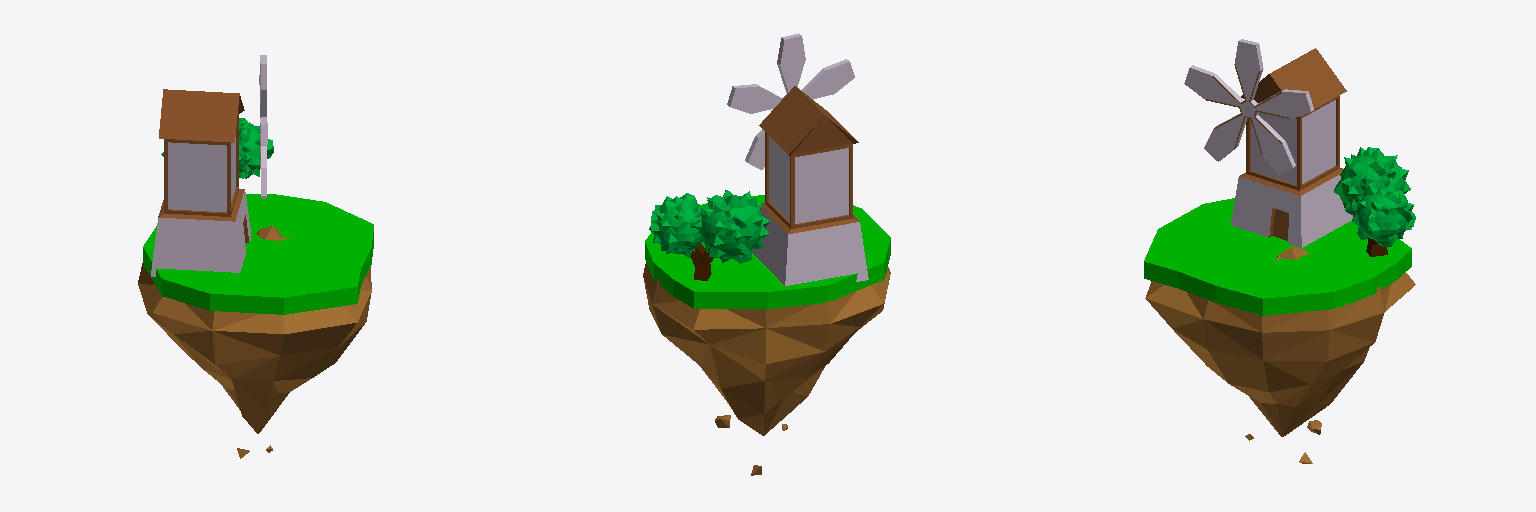
Rendered from Skyisland.obj.
3 renders of one model, left to right at view 1: azimuth 30°, elevation 25°; view 2: azimuth 150°, elevation 25°; view 3: azimuth 270°, elevation 25°, orthographic.
Visible parts, largest first — view 1: Green_platform, Island, Mill, Tree, propeller; view 2: Island, Mill, Green_platform, Tree, propeller; view 3: Island, Green_platform, Mill, propeller, Tree.
Part boxes in pixels (left/top/right/bottom): Green_platform: left=143, top=194, right=373, bottom=314; Island: left=138, top=226, right=371, bottom=458; Mill: left=151, top=89, right=251, bottom=276; Tree: left=161, top=118, right=273, bottom=178; propeller: left=259, top=55, right=267, bottom=198; Island: left=643, top=263, right=890, bottom=475; Mill: left=751, top=86, right=868, bottom=285; Green_platform: left=645, top=195, right=890, bottom=308; Tree: left=649, top=190, right=770, bottom=280; propeller: left=727, top=33, right=854, bottom=169; Island: left=1145, top=247, right=1415, bottom=463; Green_platform: left=1144, top=198, right=1411, bottom=315; Mill: left=1231, top=48, right=1352, bottom=247; propeller: left=1184, top=39, right=1313, bottom=175; Tree: left=1334, top=147, right=1415, bottom=256.
Bounding box in the file's own units: 27.87 × 50.85 × 29.91.